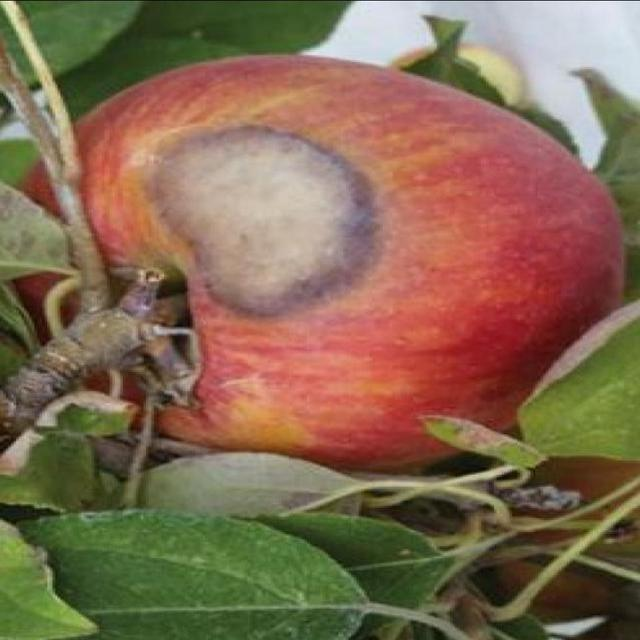Sunscald Fruit: (100, 87, 247, 205)
